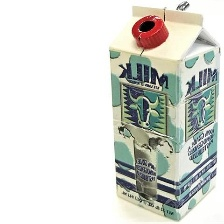carton: (107, 3, 223, 224)
